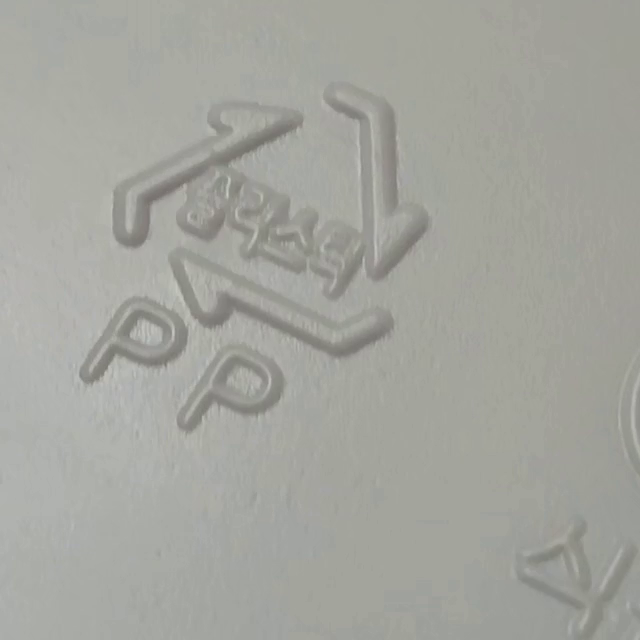Plastic: (113, 82, 430, 357)
